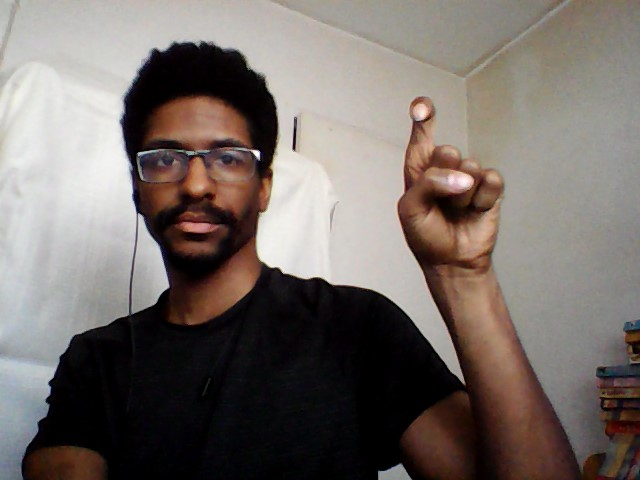x: (392, 91, 511, 277)
